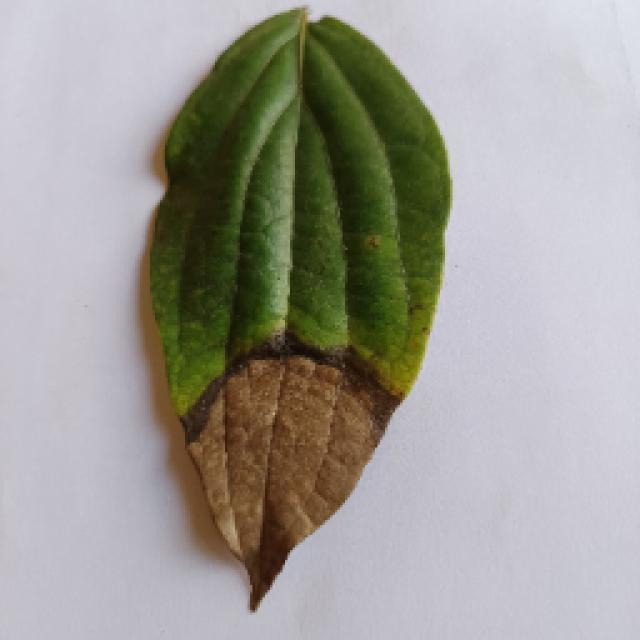footrot: (148, 10, 450, 605)
